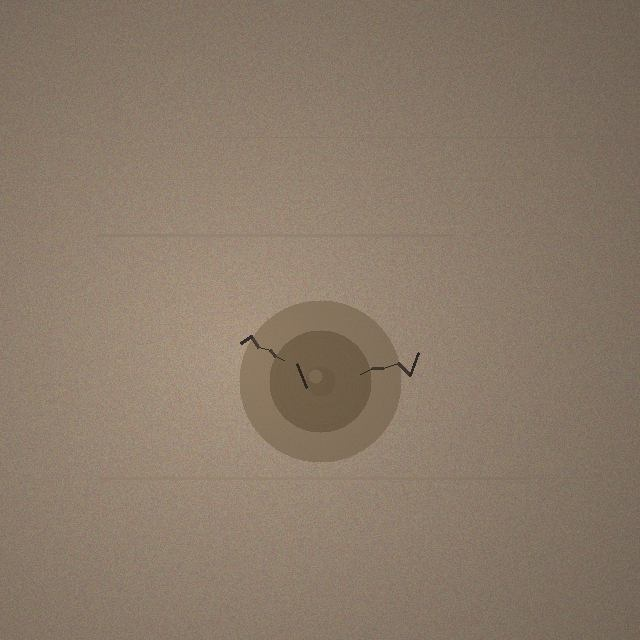crack: (239, 300, 401, 462)
